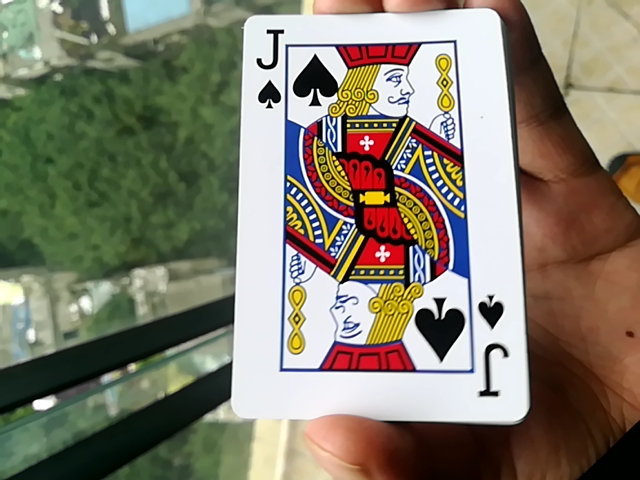ht j: (221, 1, 521, 420)
